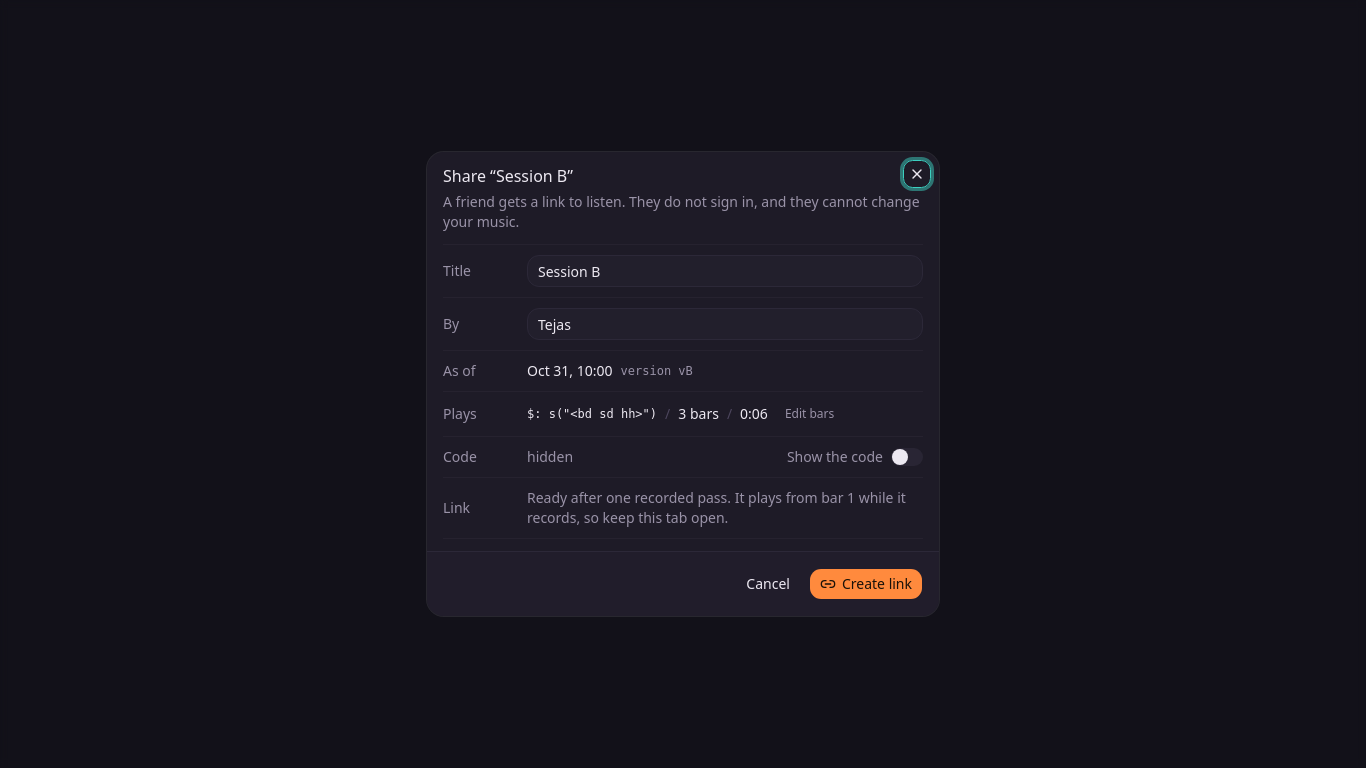
Scenario: ShareDialog › deletes the unfinished link when the recording fails
Click the button "Create link" at x=866, y=584, box [809,568,923,600]
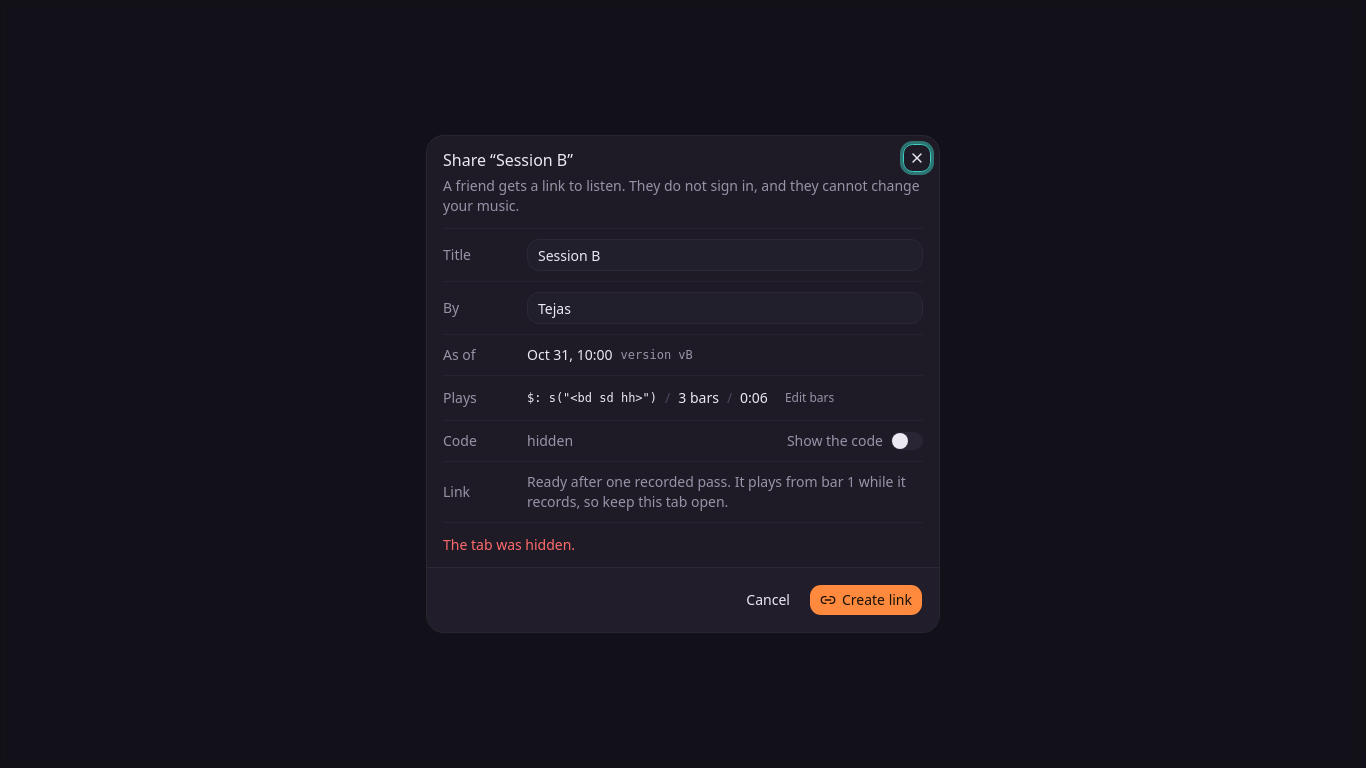
Expected: the message reads "The tab was hidden.", [443,535,575,554]
